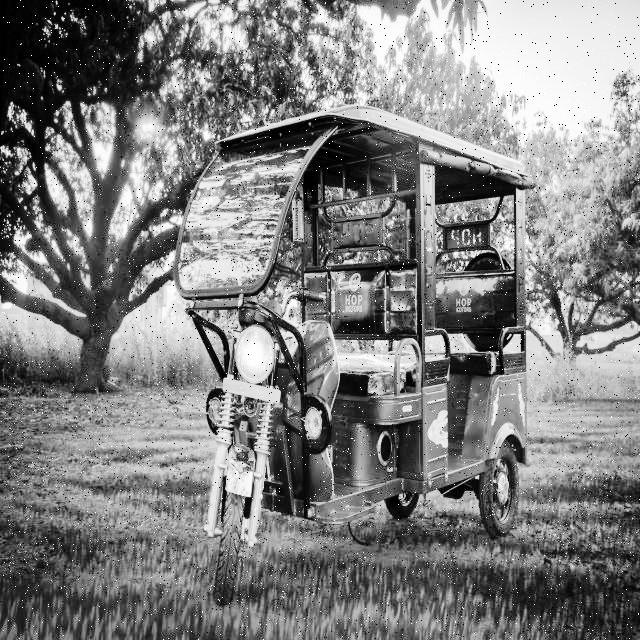Toto: (180, 84, 540, 603)
